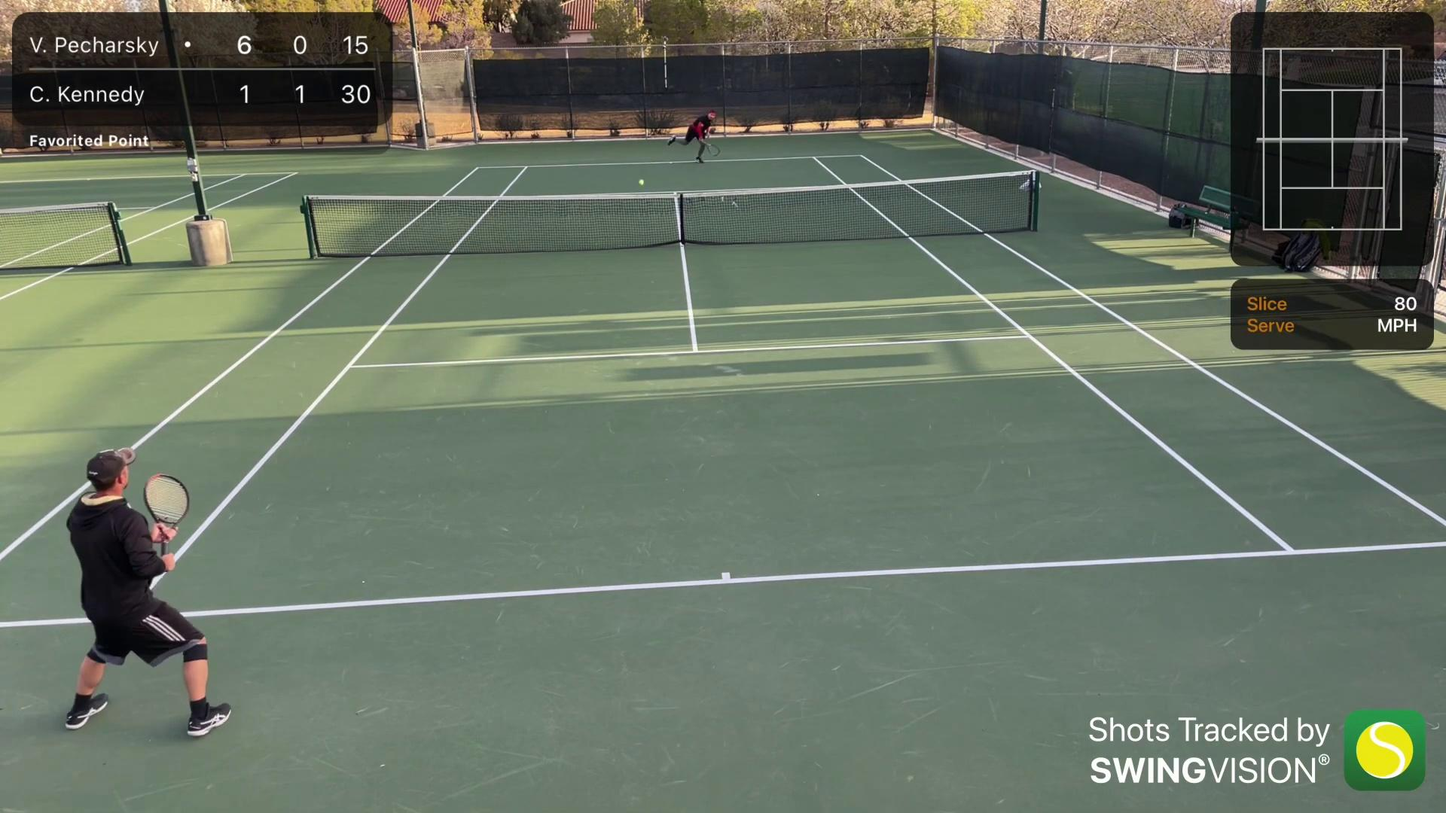ball: (637, 181, 645, 186)
